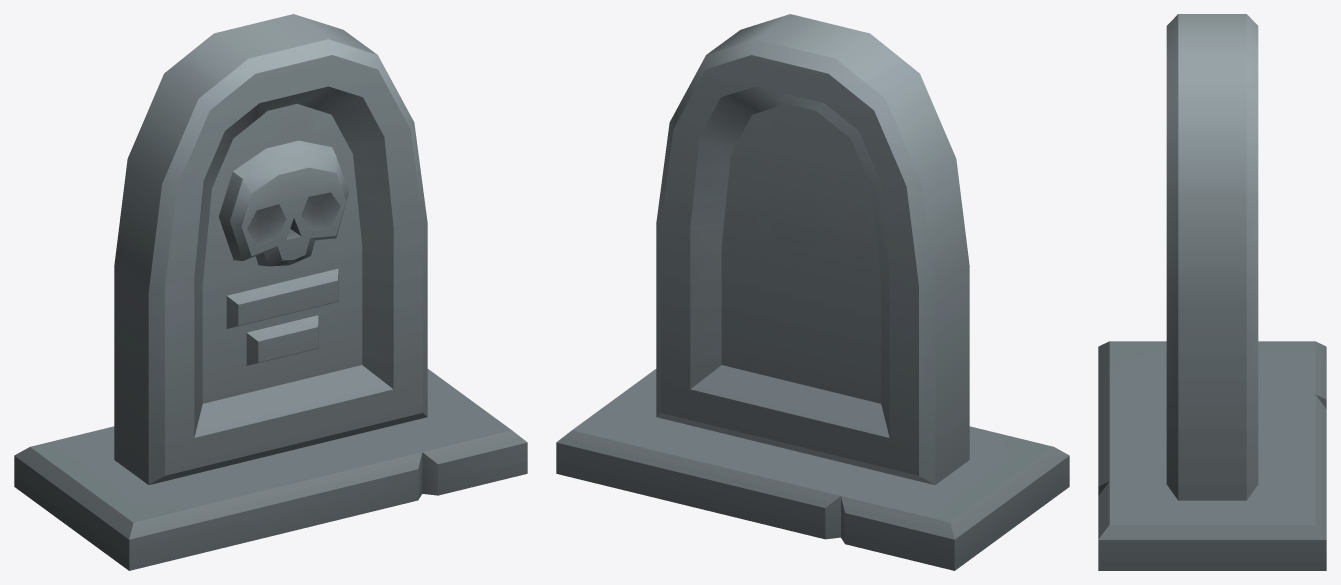
Rendered from znGrV0V80y.glb.
3 views of the same model, side by side, from view 1: azimuth 30°, elevation 25°; view 2: azimuth 150°, elevation 25°; view 3: azimuth 270°, elevation 25° (orthographic).
Visible parts, largest first — view 1: grave_A; view 2: grave_A; view 3: grave_A.
Part boxes in pixels (left/top/right/bottom): grave_A: left=14, top=14, right=527, bottom=570; grave_A: left=556, top=14, right=1069, bottom=570; grave_A: left=1098, top=14, right=1326, bottom=570.
Bounding box in the file's own units: 2 × 2.13 × 0.9999.
1 material, 1 textured.
